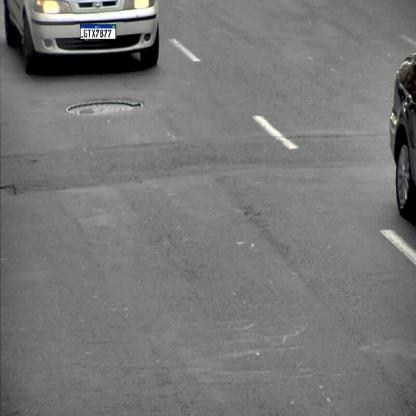PlacaM: (80, 24, 116, 40)
